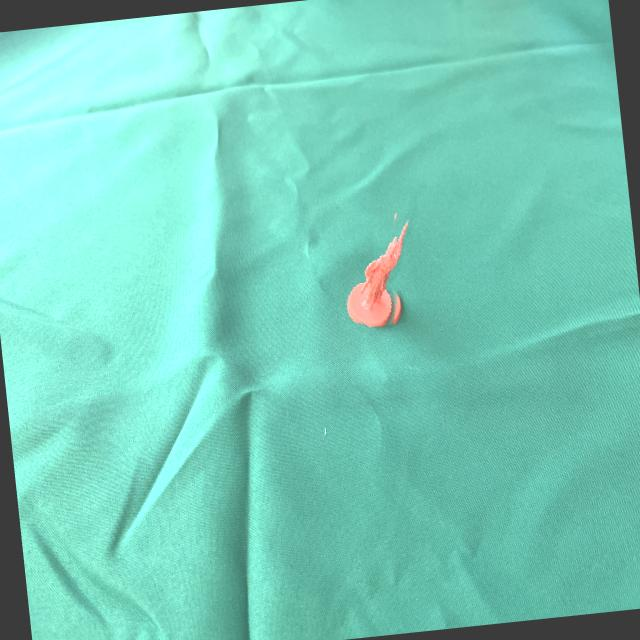amon_follower: (347, 220, 408, 327)
